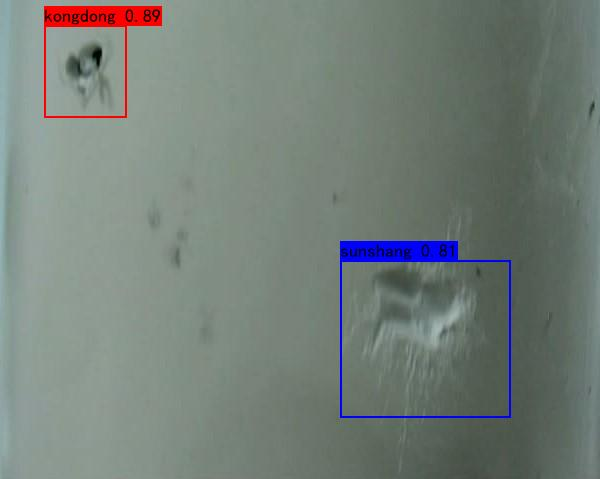kongdong: (58, 37, 117, 91)
sunshang: (353, 258, 485, 360)
